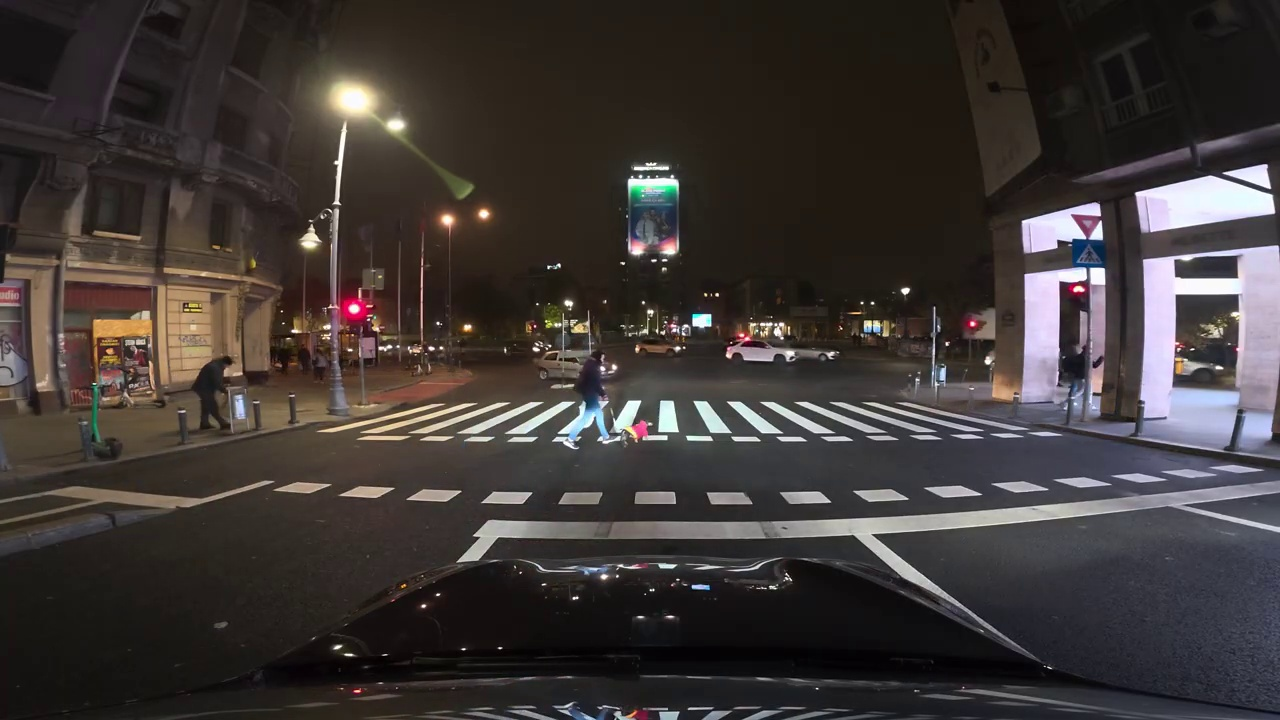acesa: (334, 85, 372, 115), (299, 230, 324, 255), (436, 211, 458, 232), (172, 196, 191, 220), (385, 117, 407, 137), (477, 206, 495, 226), (897, 283, 915, 301)
